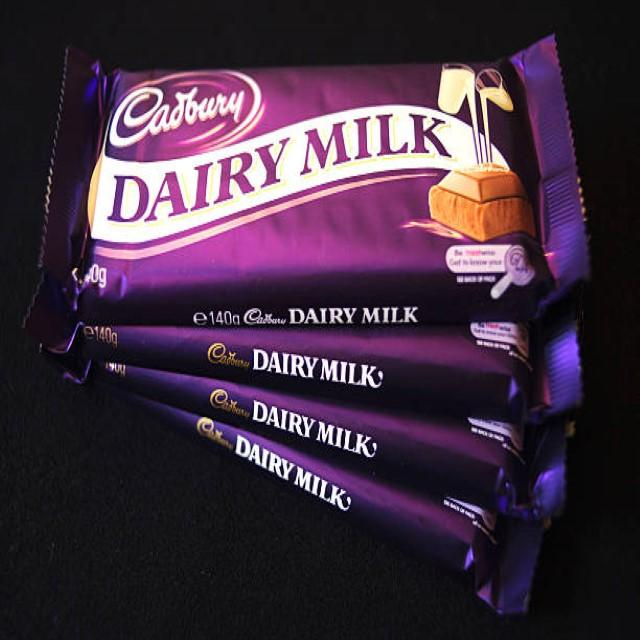cadbury_chocolate: (58, 27, 602, 308), (170, 393, 587, 597), (22, 288, 583, 424)
